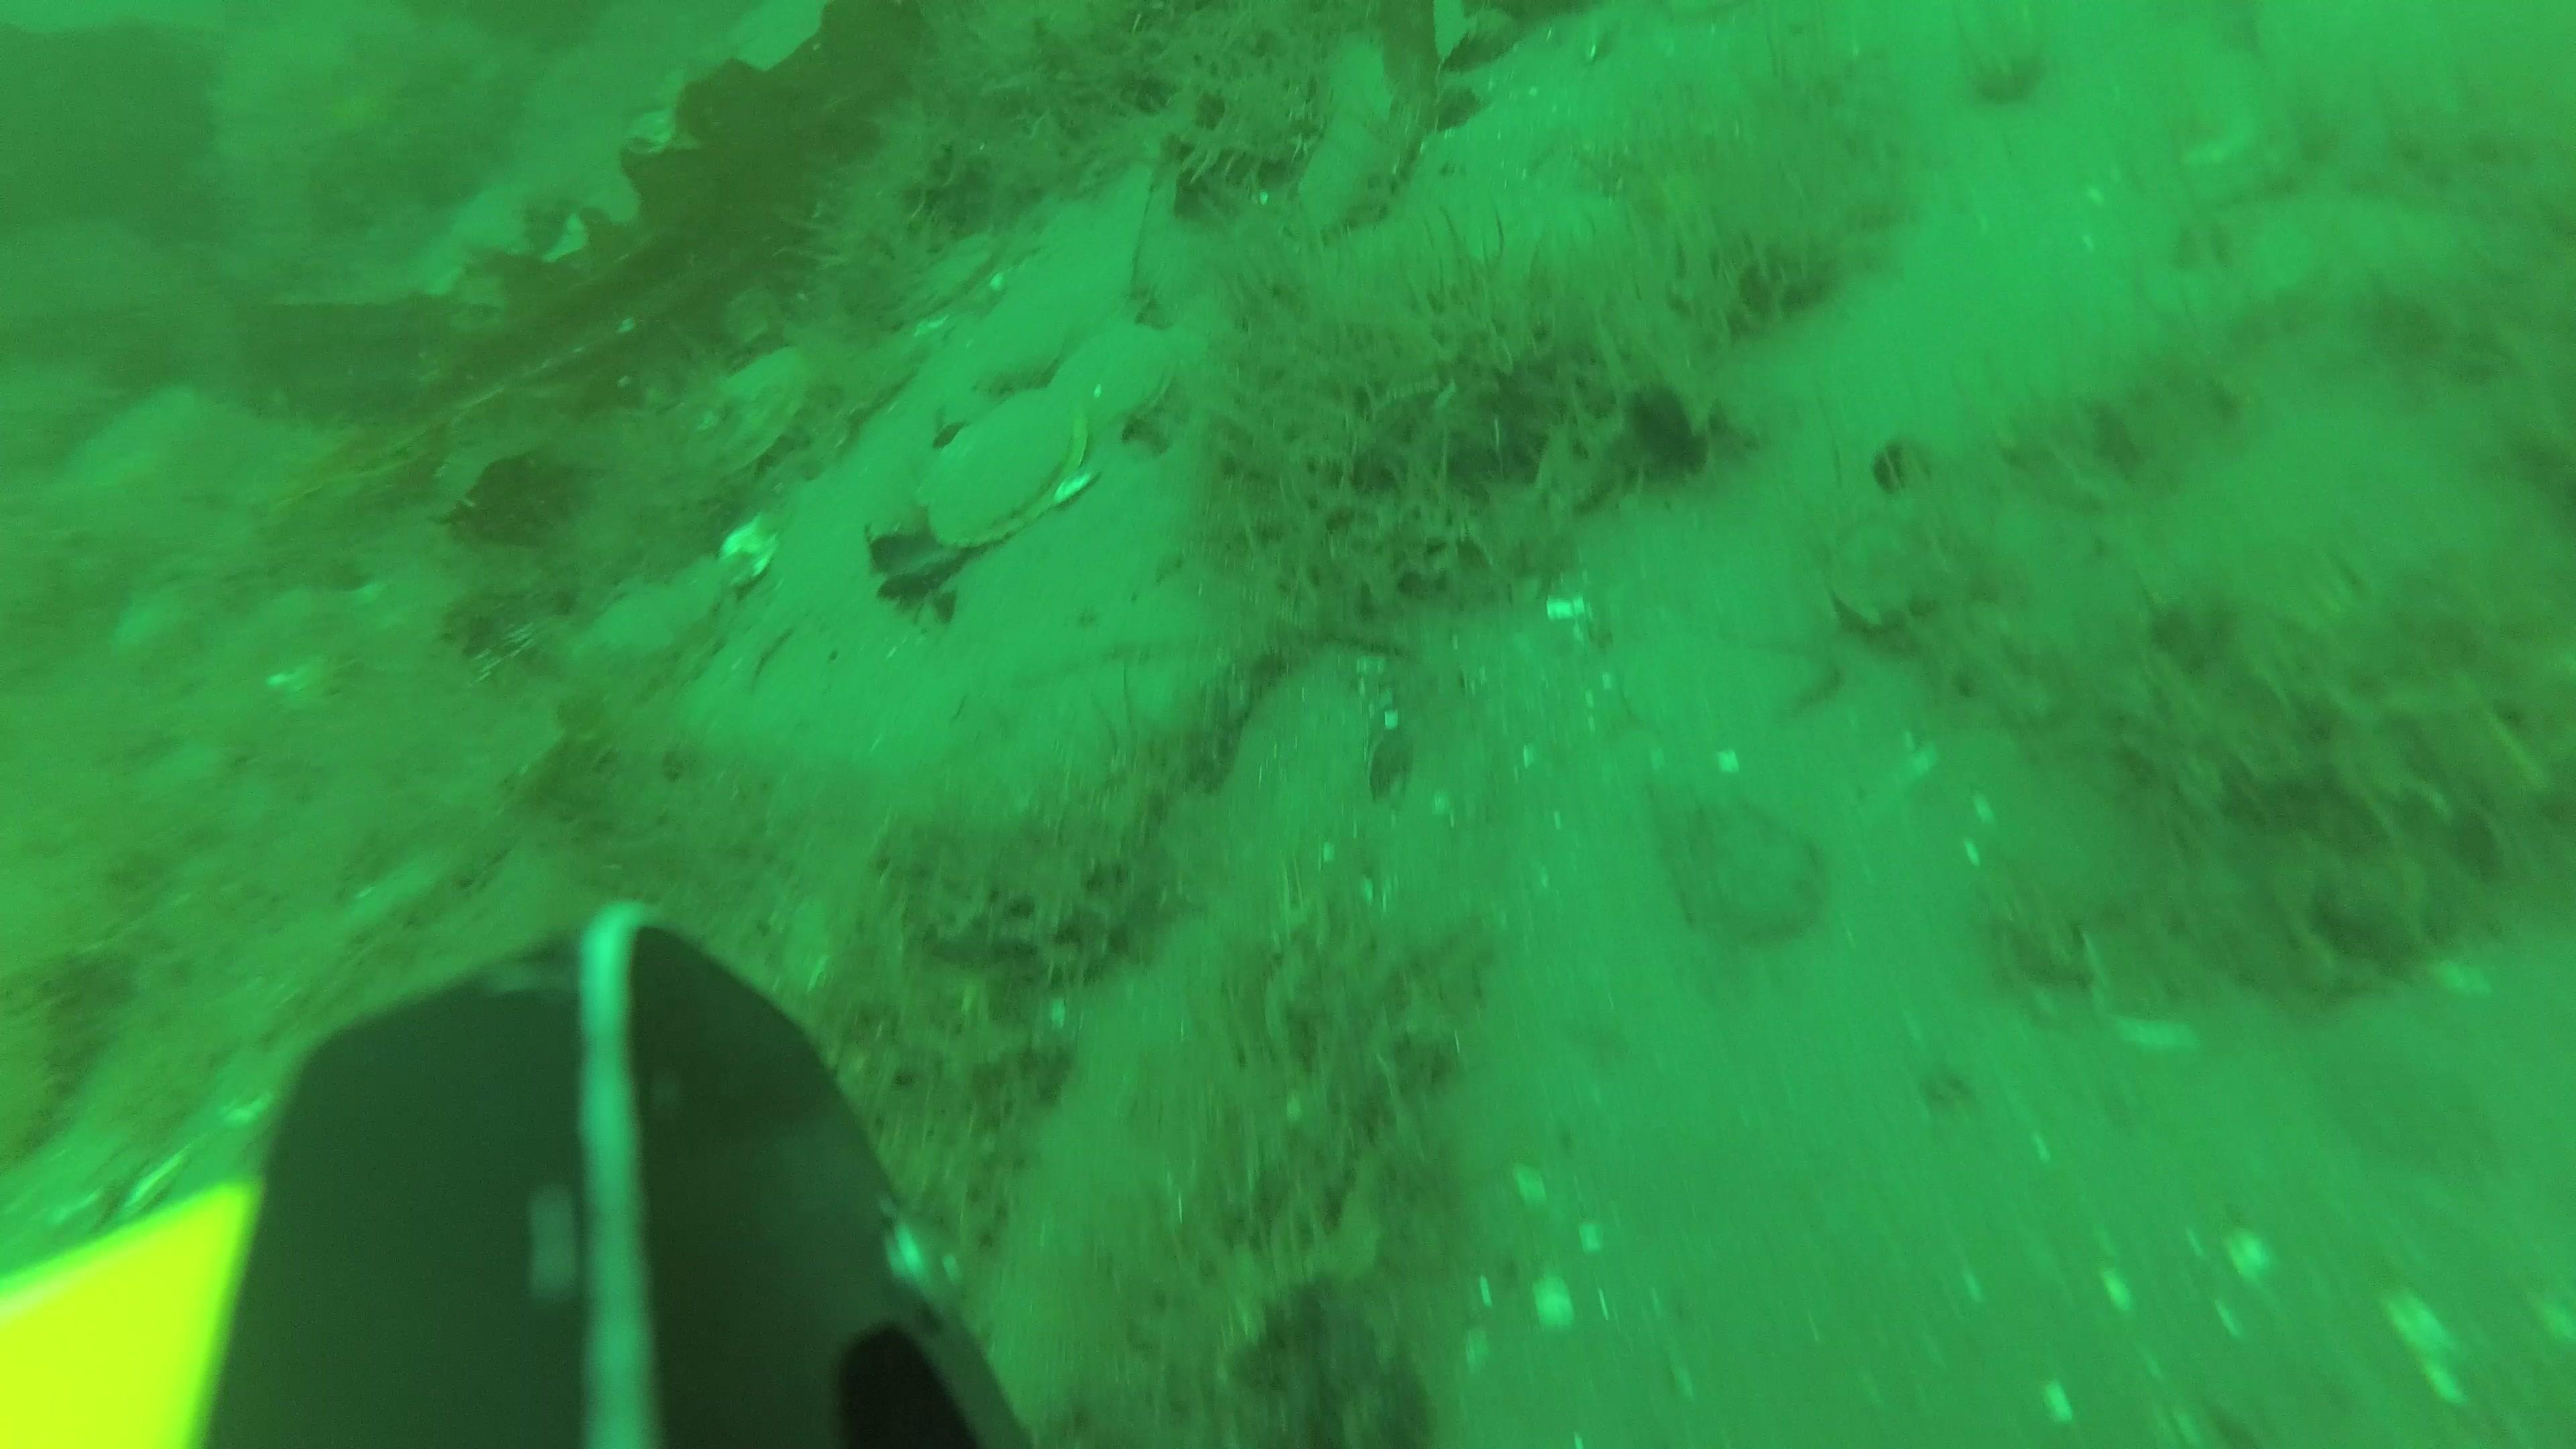scallop: (911, 396, 1079, 538), (683, 350, 807, 469), (1056, 326, 1173, 430), (973, 306, 1083, 391), (1070, 326, 1169, 416)
